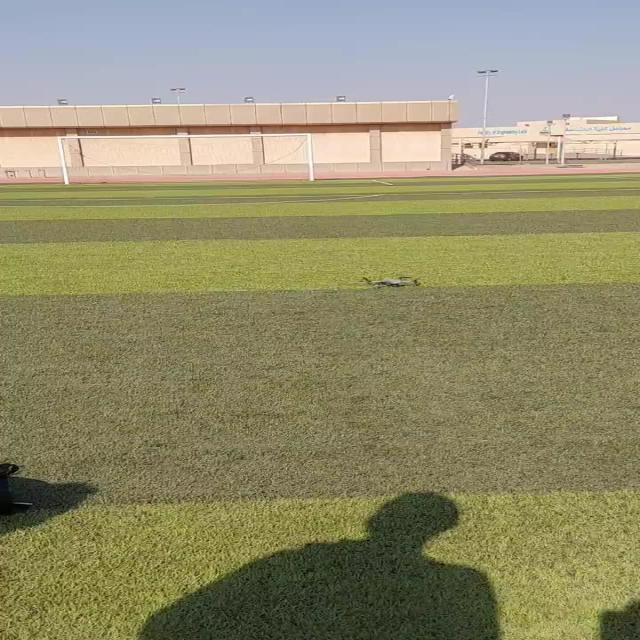drone: (350, 268, 425, 292)
